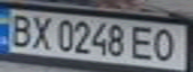0: (54, 17, 75, 53)
2: (69, 18, 93, 55)
4: (90, 19, 112, 56)
8: (106, 21, 130, 59)
B: (3, 11, 36, 47)
E: (127, 24, 160, 61)
O: (148, 27, 184, 64)
X: (27, 12, 54, 51)
